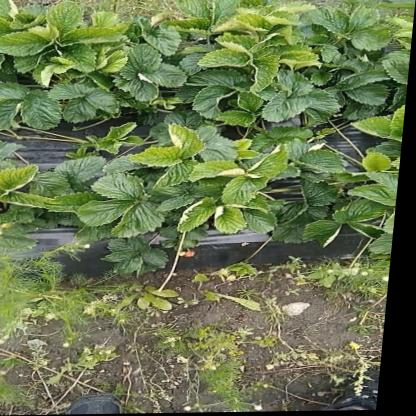ripe: (189, 252, 201, 258)
unripe: (184, 252, 191, 257)
